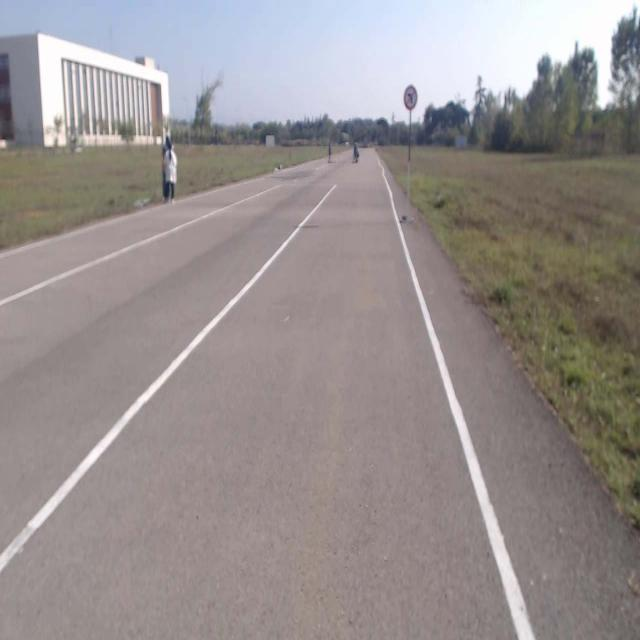soladonulmez: (404, 86, 416, 111)
